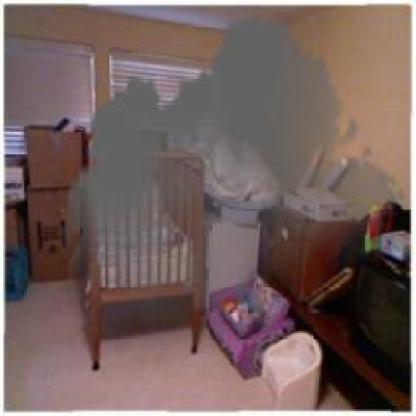Smoke: (59, 4, 407, 368)
